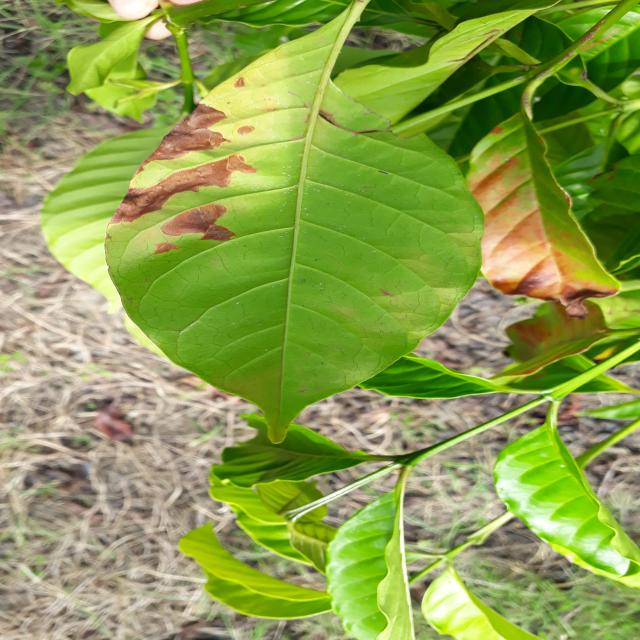Plaga-AranaRoja: (103, 0, 484, 447)
